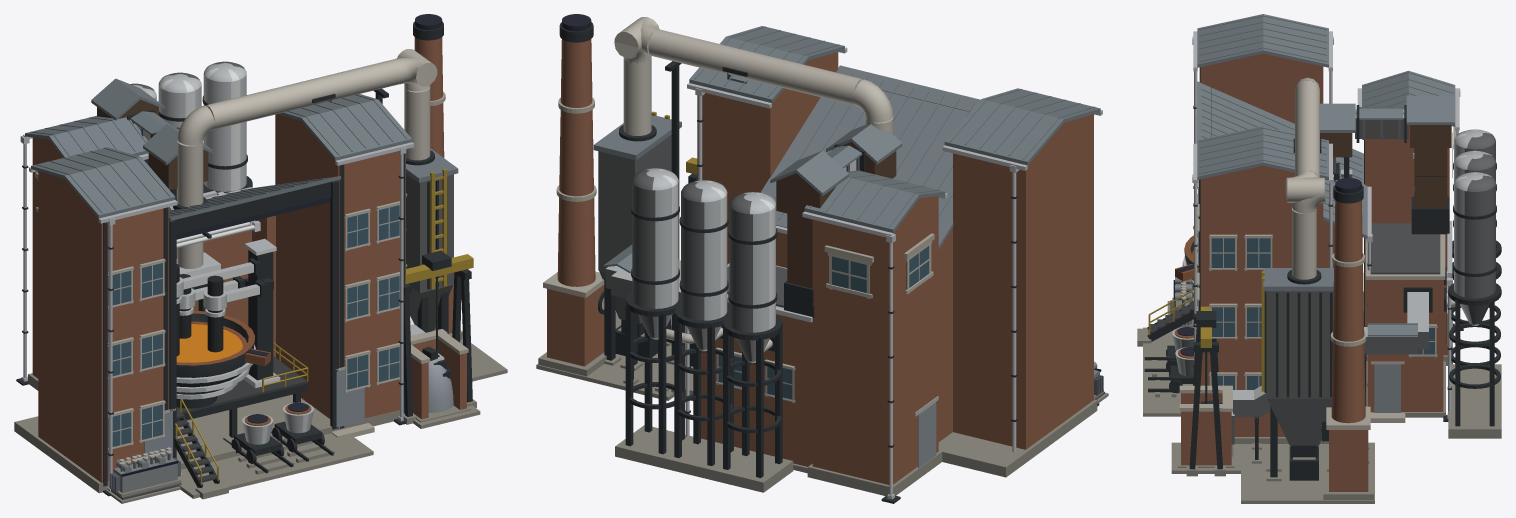
File: eaf_lvl3.glb
The picture shows the model from 3 angles, left to right: view 1: azimuth 30°, elevation 25°; view 2: azimuth 150°, elevation 25°; view 3: azimuth 270°, elevation 25°; orthographic projection. The views are drawn at different scales.
Visible parts, largest first — view 1: eaf_v2, eaf_v2_Glass; view 2: eaf_v2, eaf_v2_Glass; view 3: eaf_v2, eaf_v2_Glass.
Boxes of the visible parts, bbox=[...] form: eaf_v2: bbox=[14, 14, 507, 503]; eaf_v2_Glass: bbox=[112, 205, 399, 446]; eaf_v2: bbox=[536, 14, 1108, 503]; eaf_v2_Glass: bbox=[718, 246, 928, 399]; eaf_v2: bbox=[1137, 14, 1501, 503]; eaf_v2_Glass: bbox=[1198, 188, 1434, 389].
Bounding box in the file's own units: 1 × 0.7059 × 0.7529.
